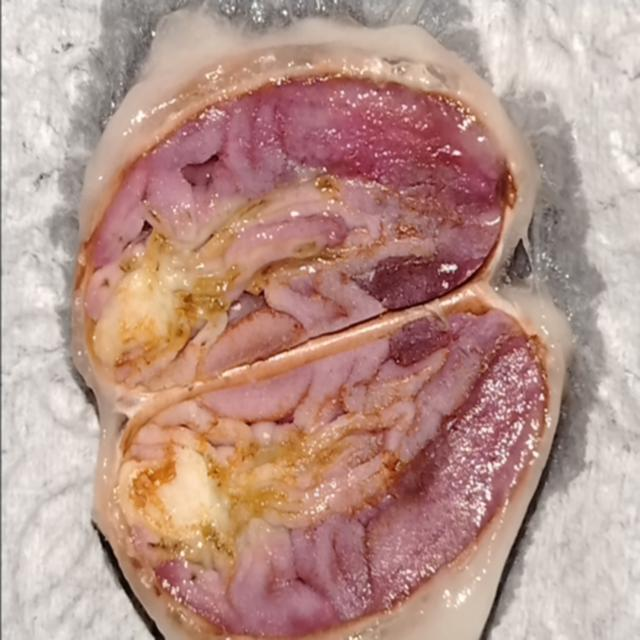Trinitario: (63, 55, 529, 402)
